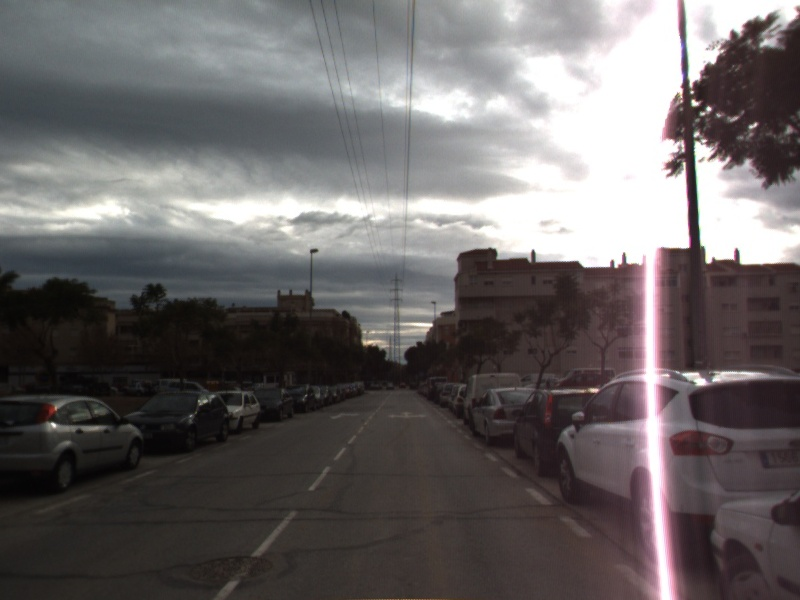STRAIGHT_LEFT_RIGHT: (385, 409, 429, 421)
